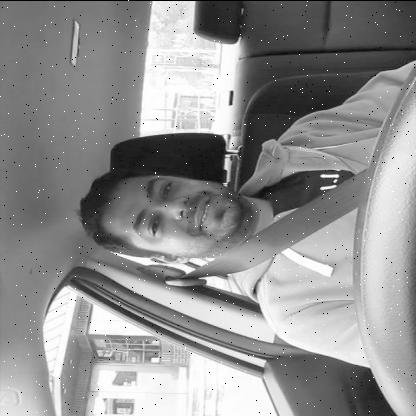seatbelt: (77, 146, 366, 272)
